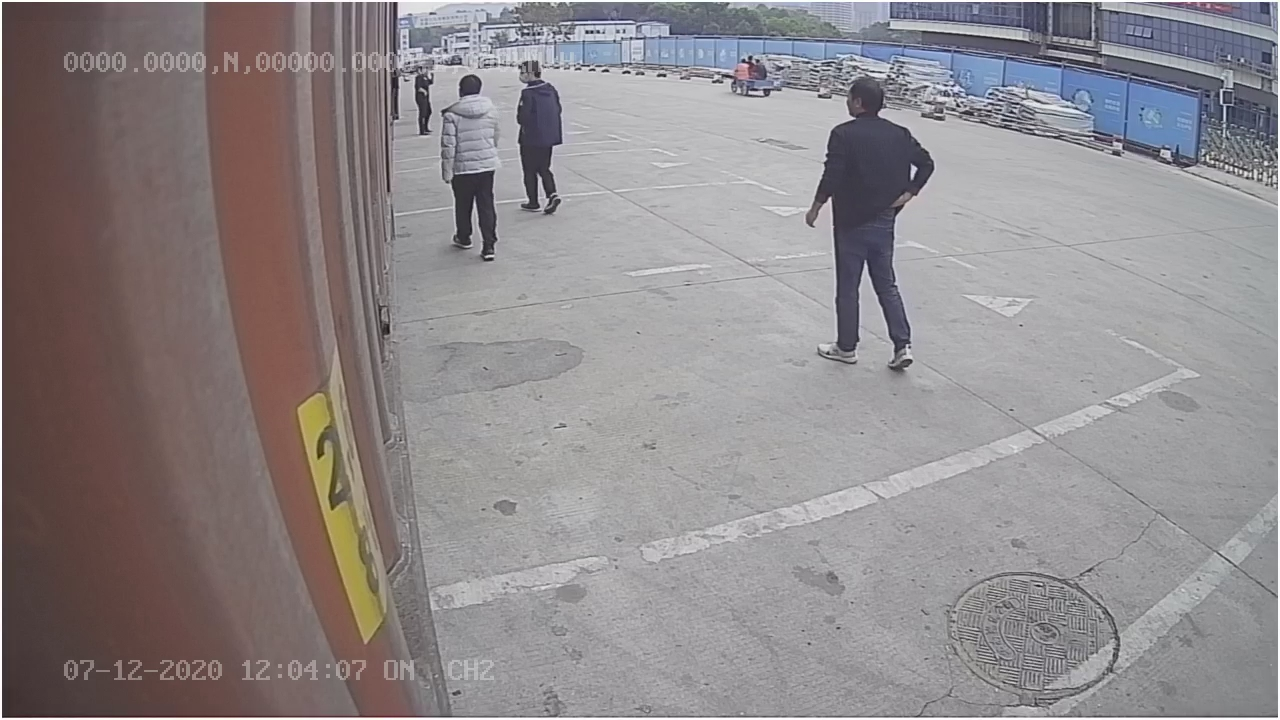person: (806, 72, 937, 372)
